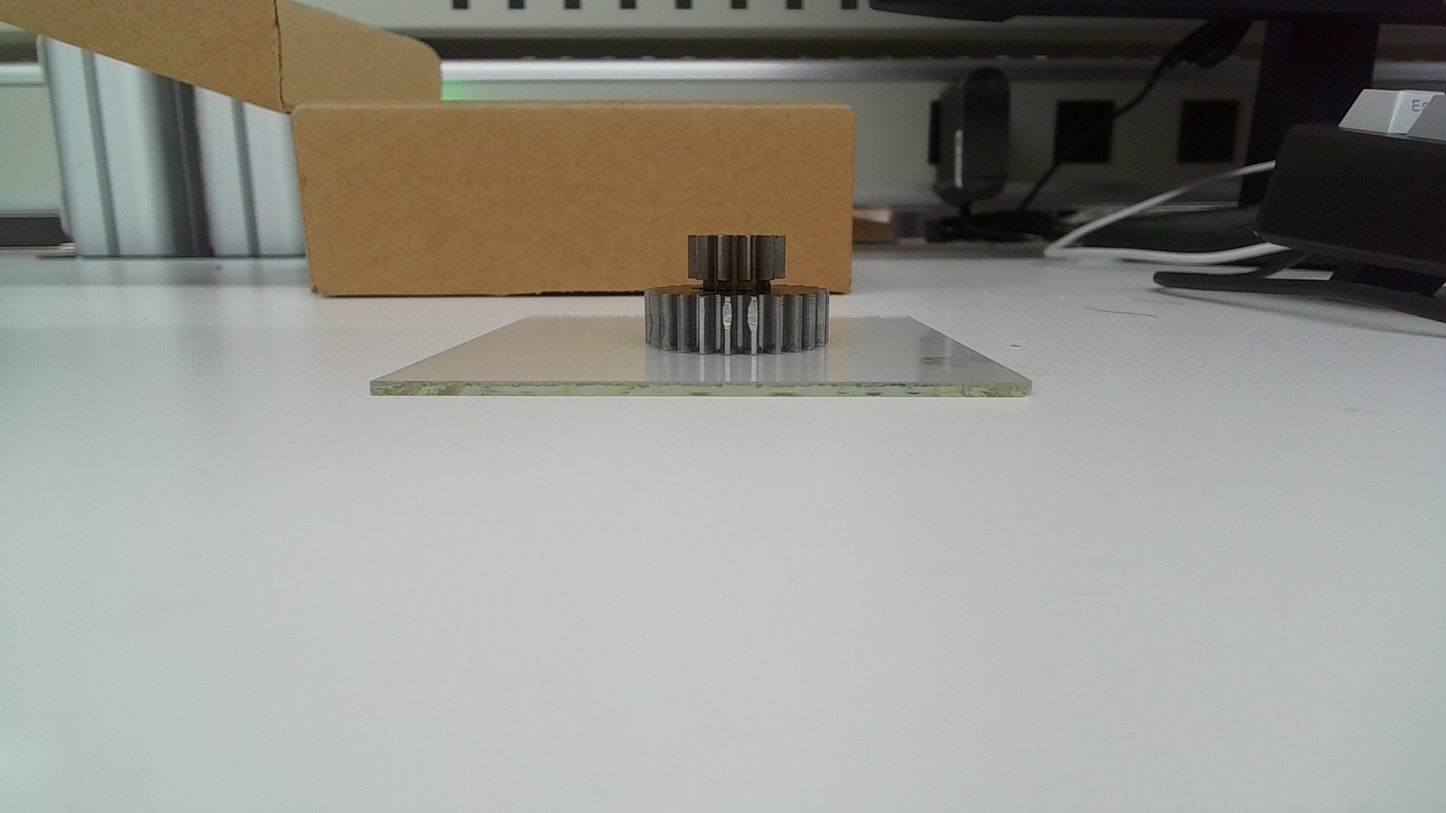gear: (643, 231, 830, 357)
